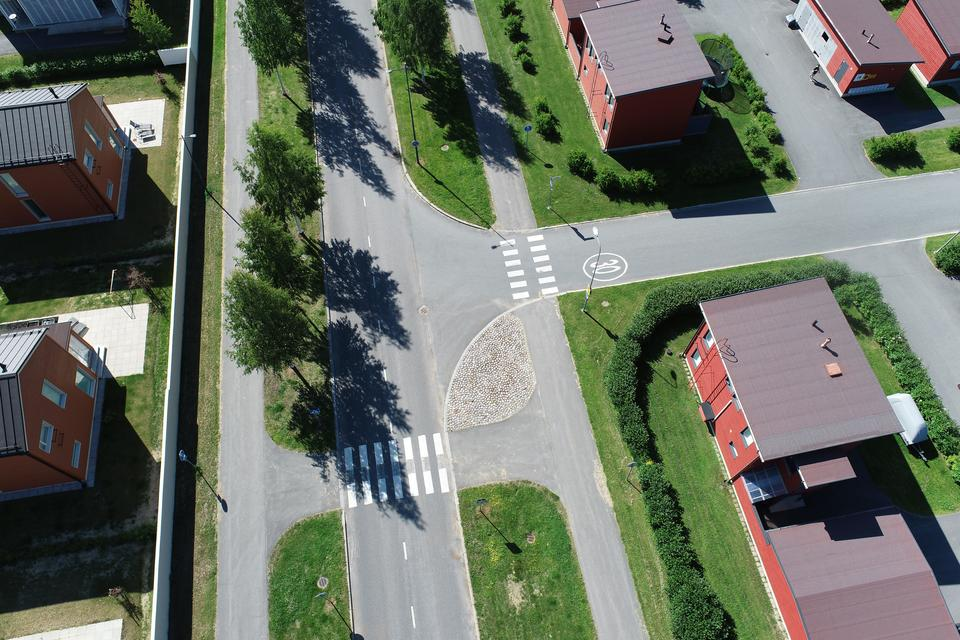intersection: (203, 403, 645, 568), (301, 178, 588, 329)
